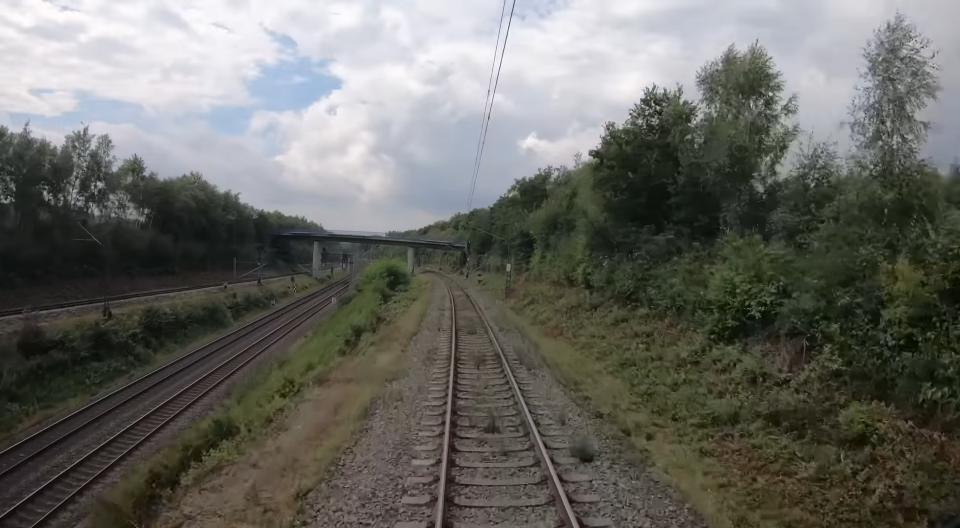Plant: (514, 339, 542, 369), (570, 434, 596, 462), (384, 352, 409, 380), (483, 409, 504, 433), (491, 310, 515, 328), (467, 349, 487, 370), (382, 387, 402, 402), (552, 411, 570, 427), (466, 319, 479, 335)
